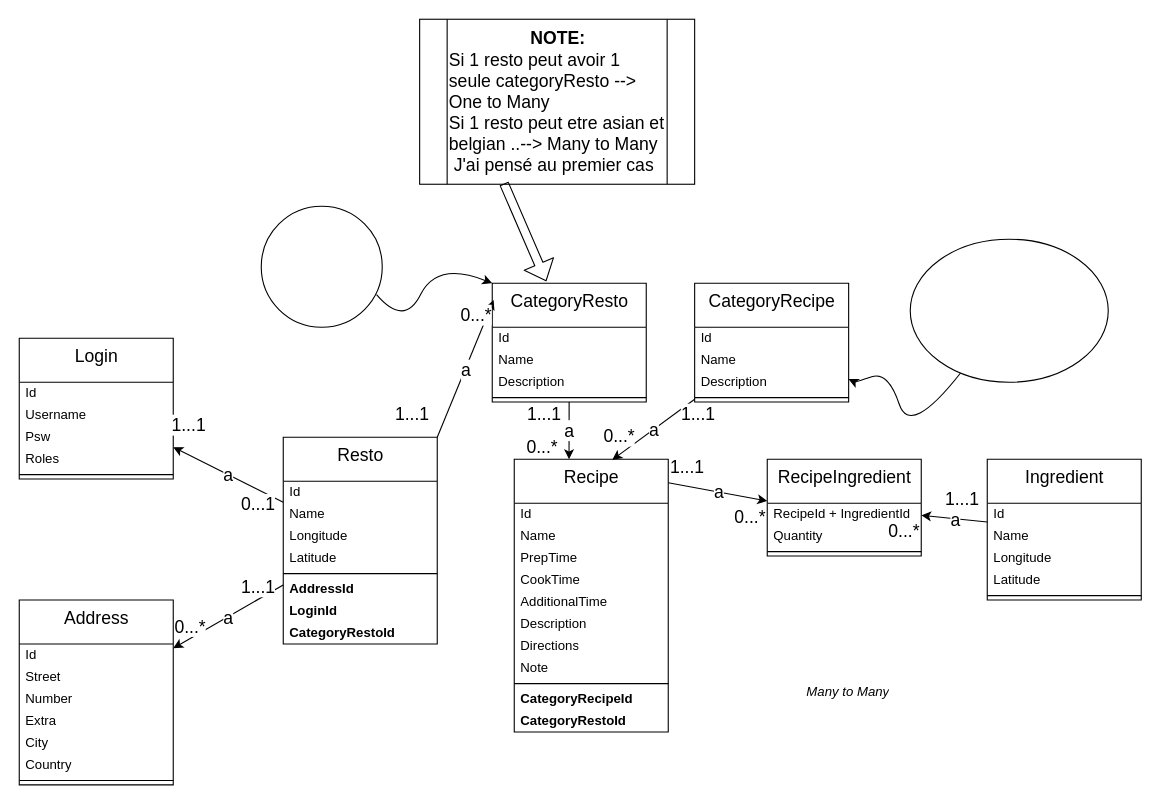
The diagram is 1161 pixels wide and 804 high, and some of its shapes have lost their labels. The shapes that lost their labels are listed below. From the top down, each one's centre as x and y in pixels, then its label:
At point (321, 266): "Indian, Italian, Thai, Belgian, ....".
At point (1008, 310): "Appetizer, First, Second, Side, Dessert, Vegetarian, Vegan,".
